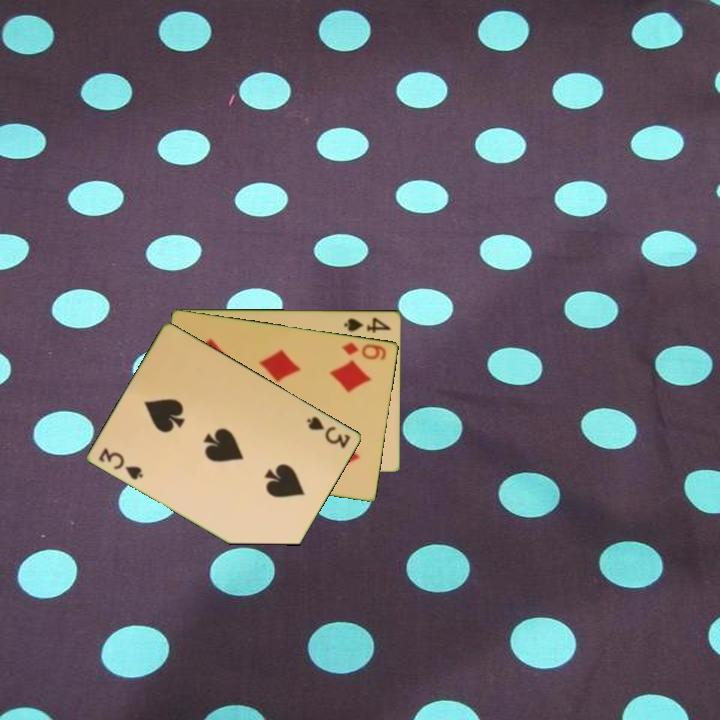3s: (95, 444, 147, 483), (304, 413, 354, 452)
4s: (341, 314, 394, 335)
6d: (339, 338, 389, 363)
